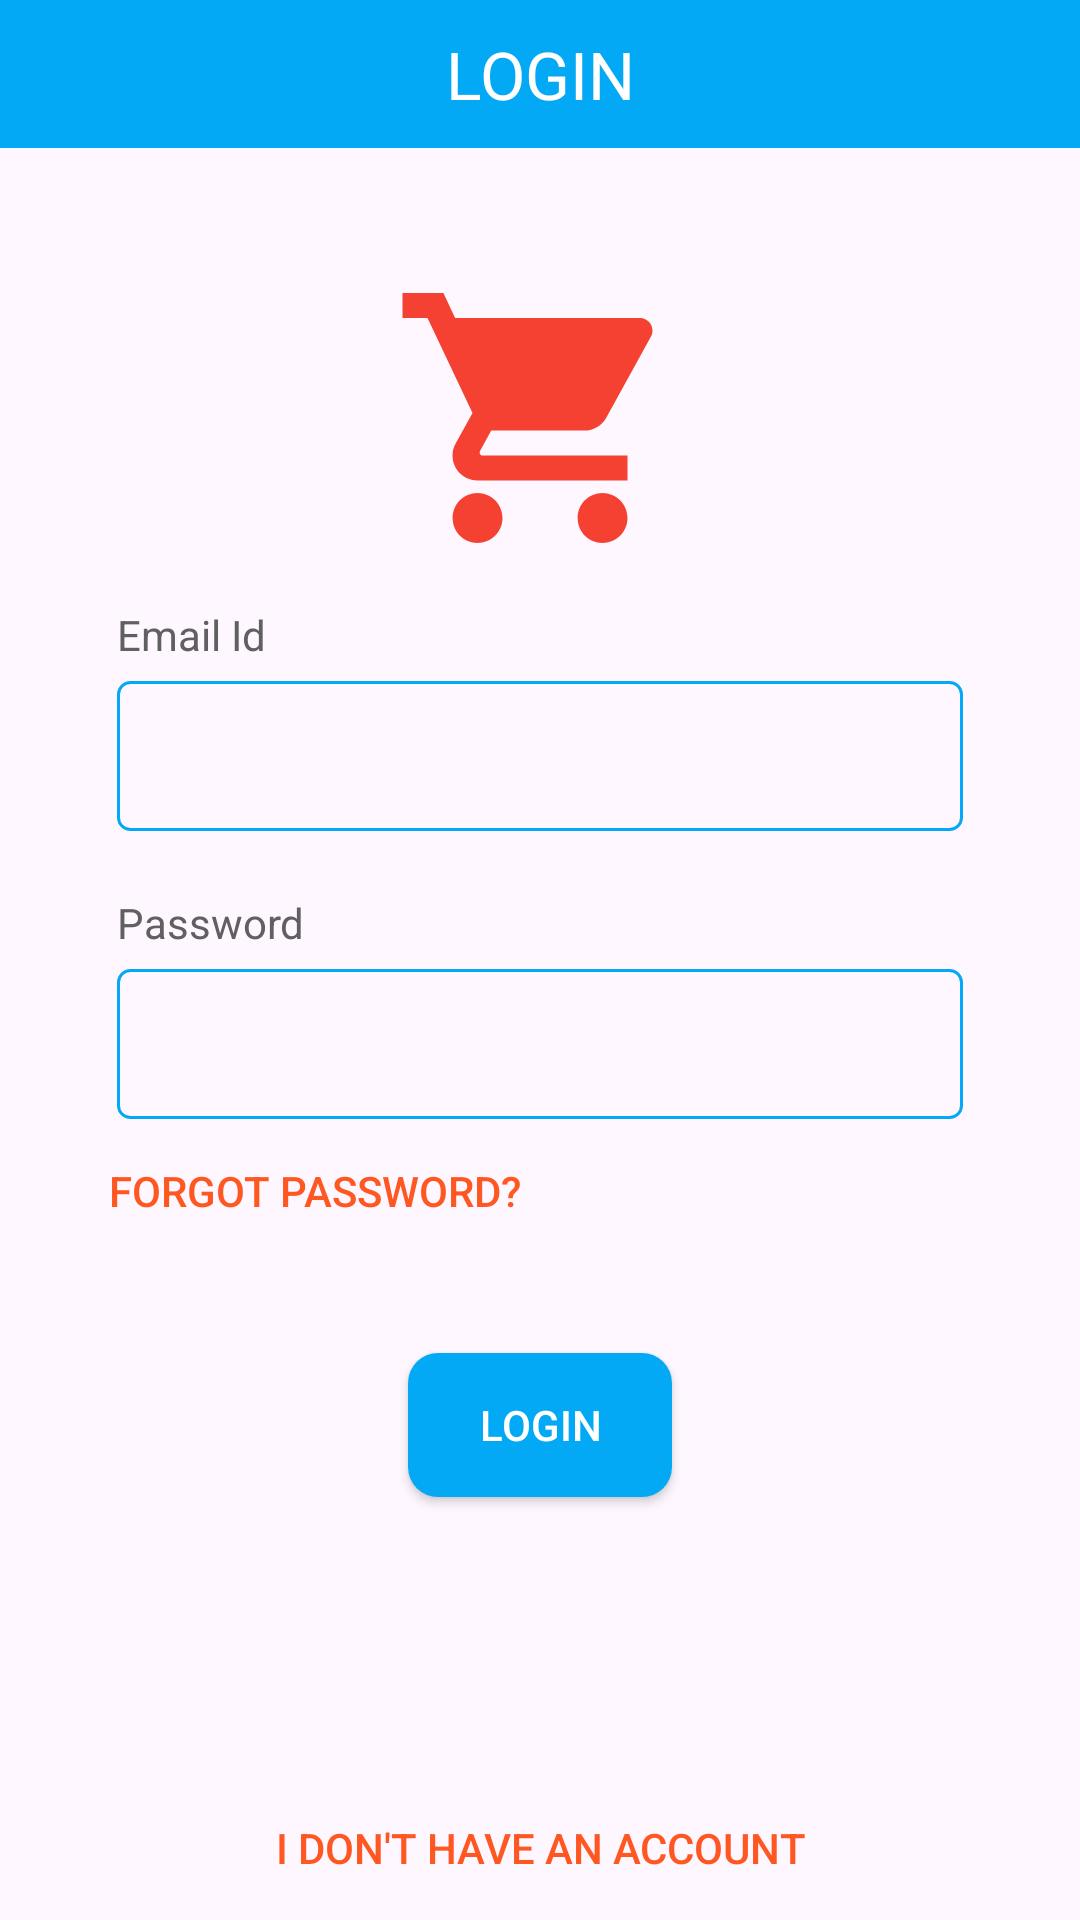

Where to tap for icons on this 1080px×1920px app screen, as point (x, y):
shopping cart: point (527, 418)
